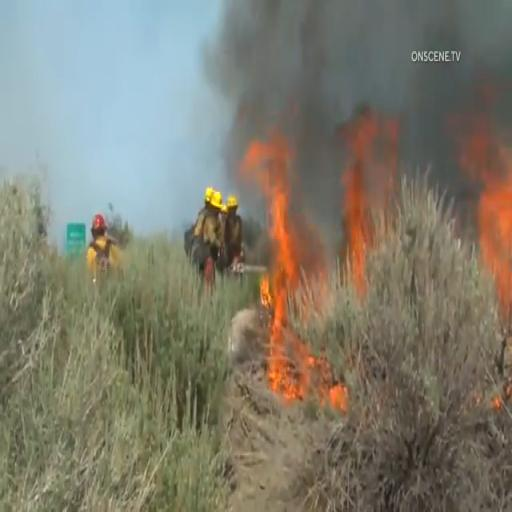fire: (250, 124, 326, 421), (453, 106, 512, 310), (336, 86, 392, 282)
smoke: (225, 0, 401, 125)
